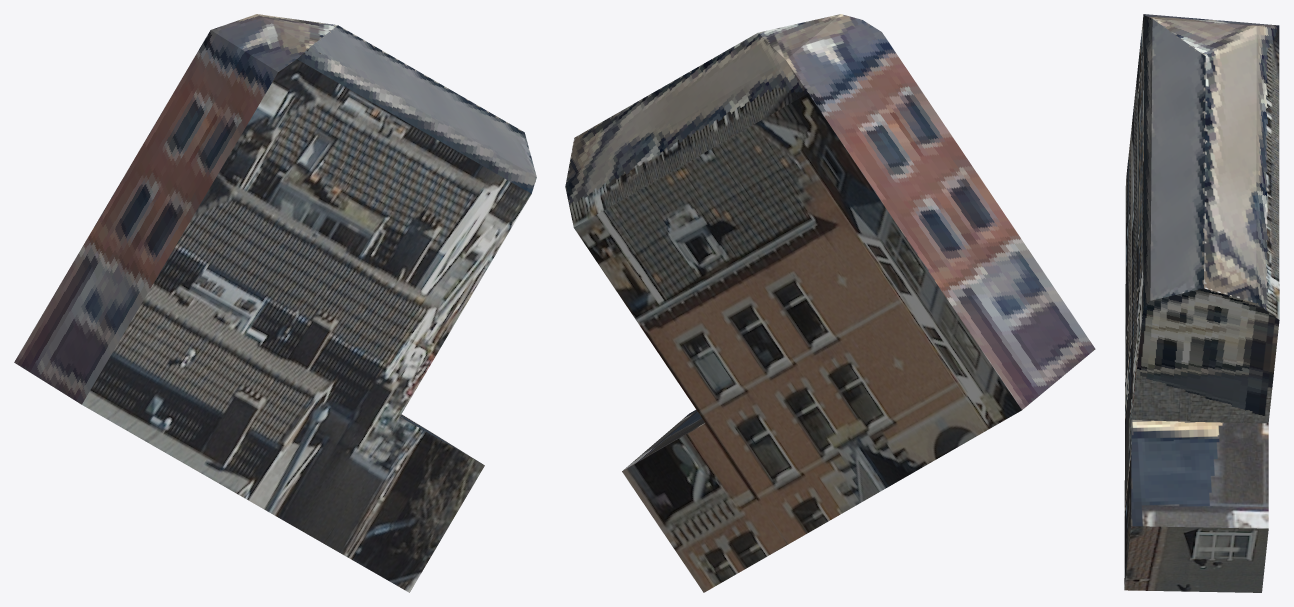
3 views of the same model, side by side, from view 1: azimuth 30°, elevation 25°; view 2: azimuth 150°, elevation 25°; view 3: azimuth 270°, elevation 25° (orthographic). The views are drawn at different scales.
Visible parts, largest first — view 1: BAG_0599100000760416 (×6); view 2: BAG_0599100000760416 (×4); view 3: BAG_0599100000760416 (×6).
Part boxes in pixels (x1,y1,x2,y2): BAG_0599100000760416 (×6): (14, 14, 536, 592); BAG_0599100000760416 (×4): (565, 14, 1095, 592); BAG_0599100000760416 (×6): (1124, 14, 1279, 592).
Size of the model in its own units: 18.61 by 20.6 by 5.4.
Materials: 6 (6 with a texture image).
